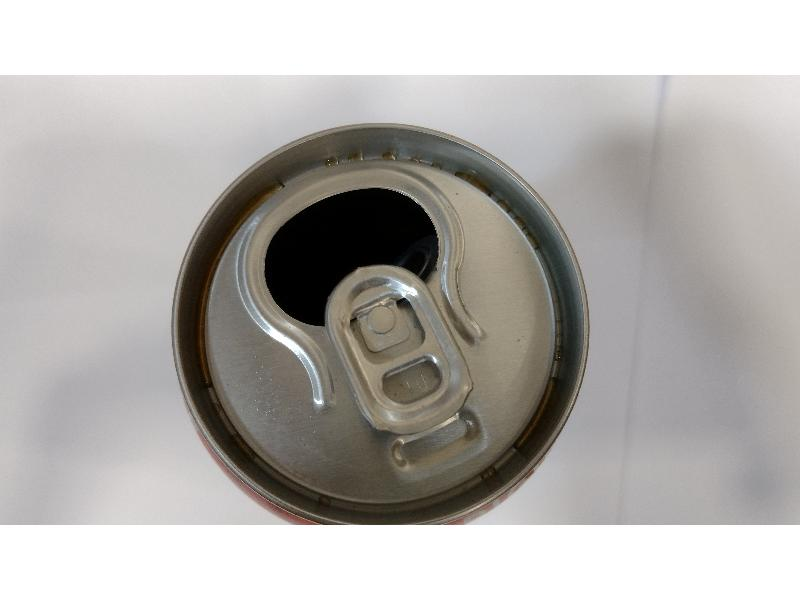can: (155, 113, 602, 524)
